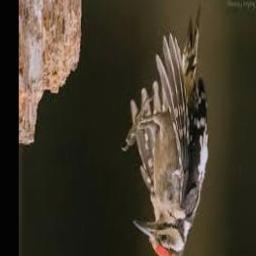Woodpecker: (122, 7, 210, 256)
